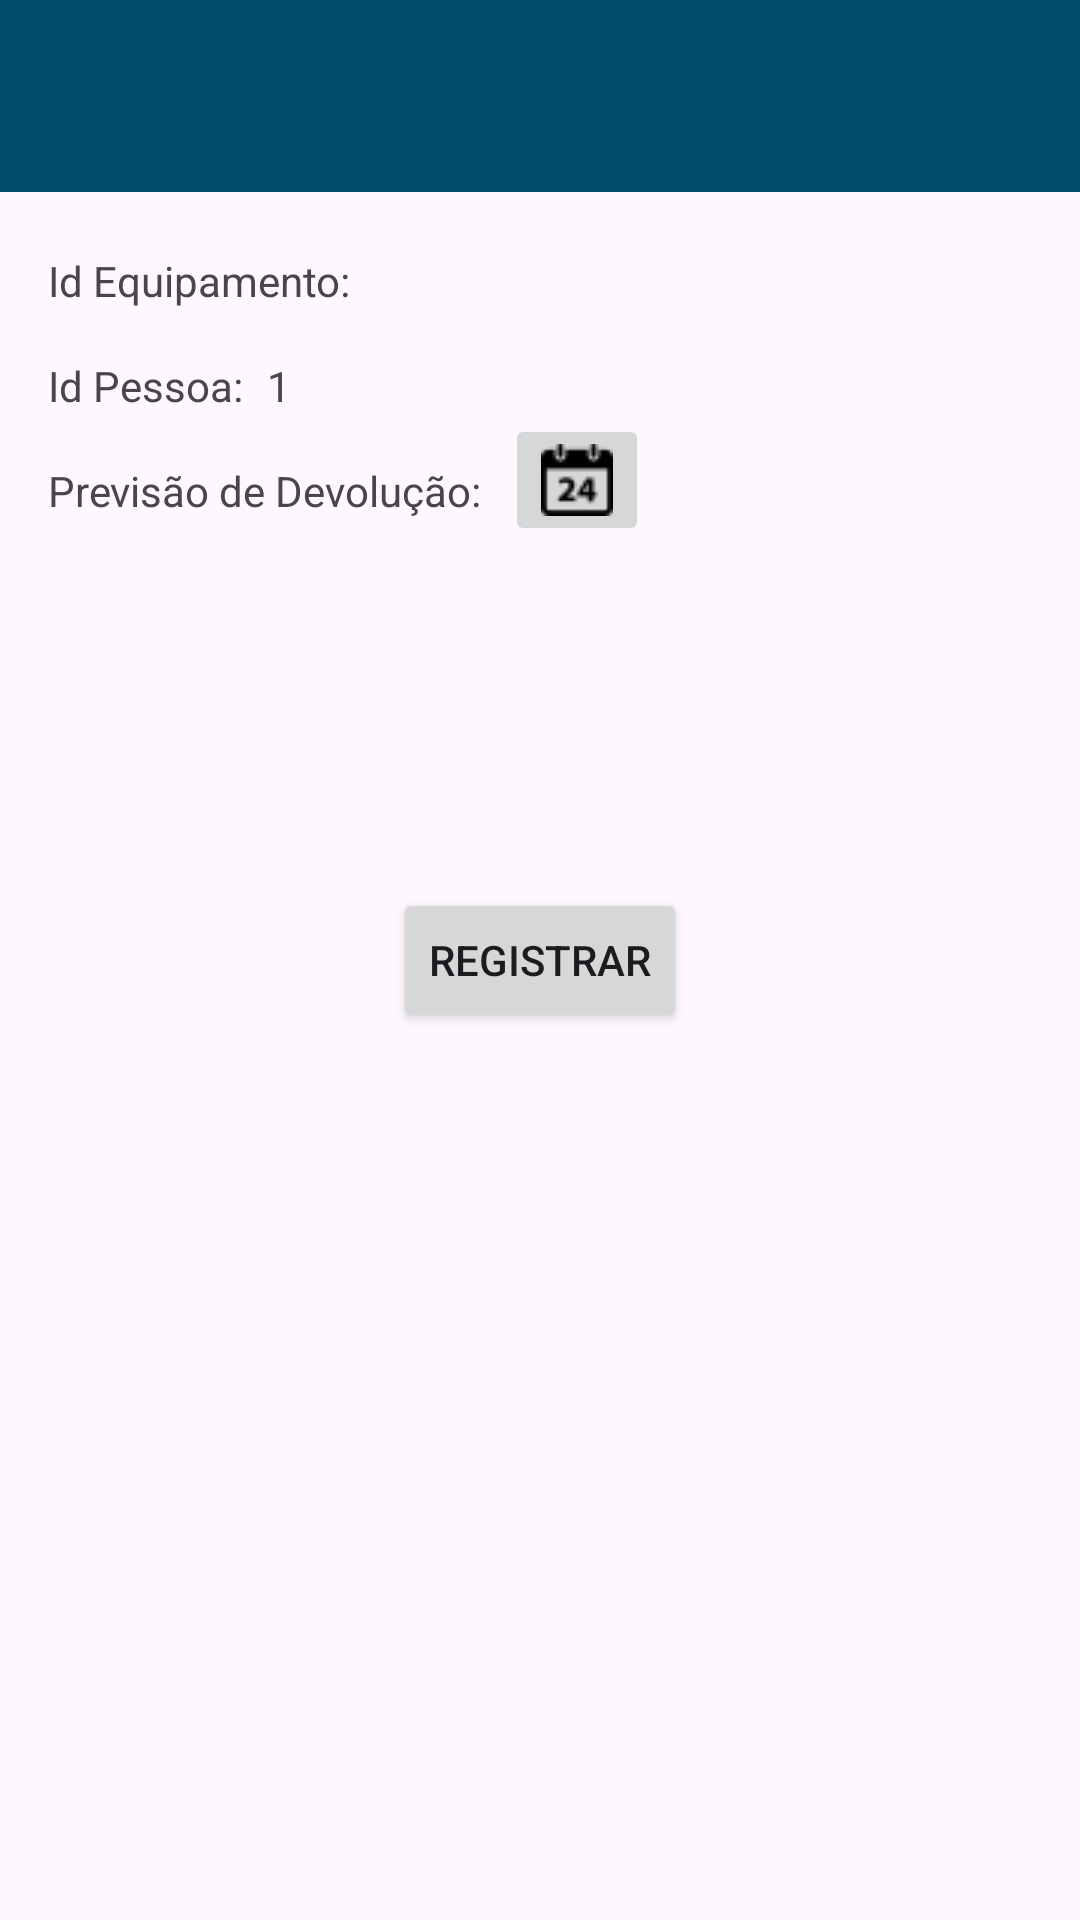

Point at icon controls on the screen. Image size 1080*1920, points as (x=x, y=y).
calendar: (x=577, y=480)
